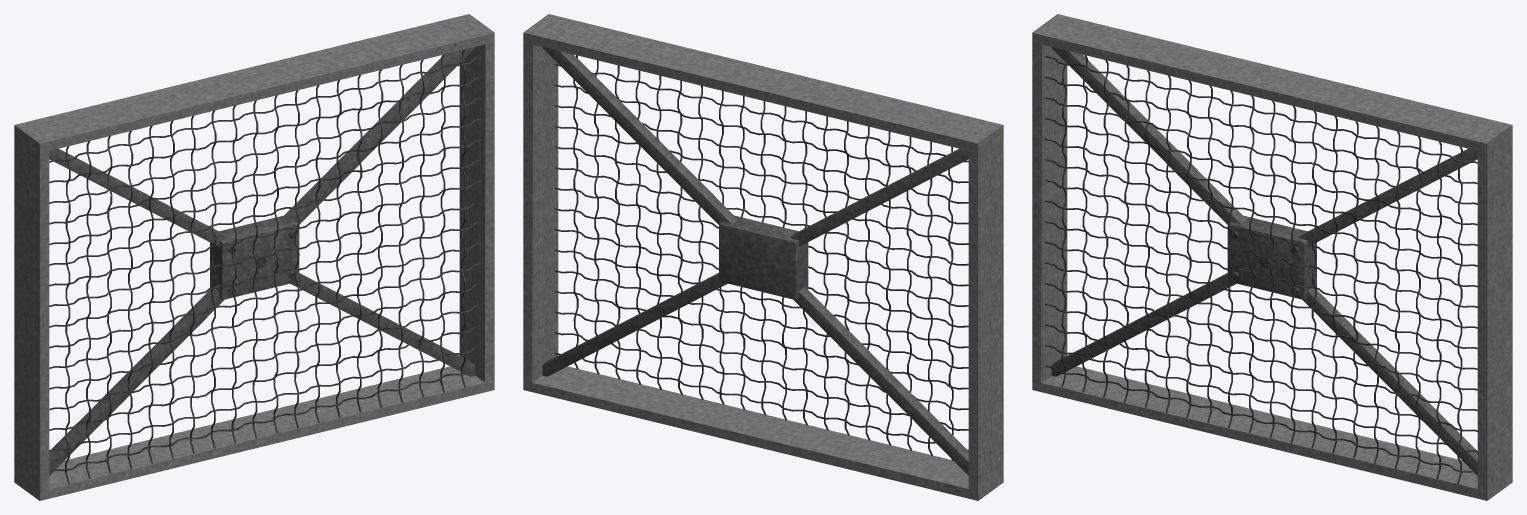
Rendered from Wired Window.fbx.
3 views of the same model, side by side, from view 1: azimuth 30°, elevation 25°; view 2: azimuth 150°, elevation 25°; view 3: azimuth 330°, elevation 25° (orthographic).
Parts seen in each view (by area): view 1: Frame, Wires, Diagonal_Support, Center; view 2: Frame, Wires, Diagonal_Support, Center; view 3: Frame, Wires, Diagonal_Support, Center.
Boxes of the visible parts, bbox=[...] form: Frame: bbox=[14, 14, 494, 500]; Wires: bbox=[49, 49, 481, 483]; Diagonal_Support: bbox=[49, 47, 475, 475]; Center: bbox=[210, 215, 299, 299]; Frame: bbox=[523, 14, 1003, 500]; Wires: bbox=[554, 55, 968, 460]; Diagonal_Support: bbox=[542, 47, 968, 475]; Center: bbox=[719, 215, 808, 299]; Frame: bbox=[1032, 14, 1512, 500]; Wires: bbox=[1044, 50, 1477, 484]; Diagonal_Support: bbox=[1051, 47, 1477, 475]; Center: bbox=[1227, 215, 1316, 299].
Size of the model in its own units: 414 by 310 by 40.6.
Materials: 1 (1 with a texture image).
